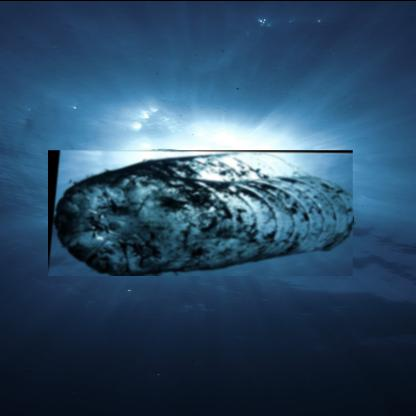bottle: (48, 148, 354, 275)
